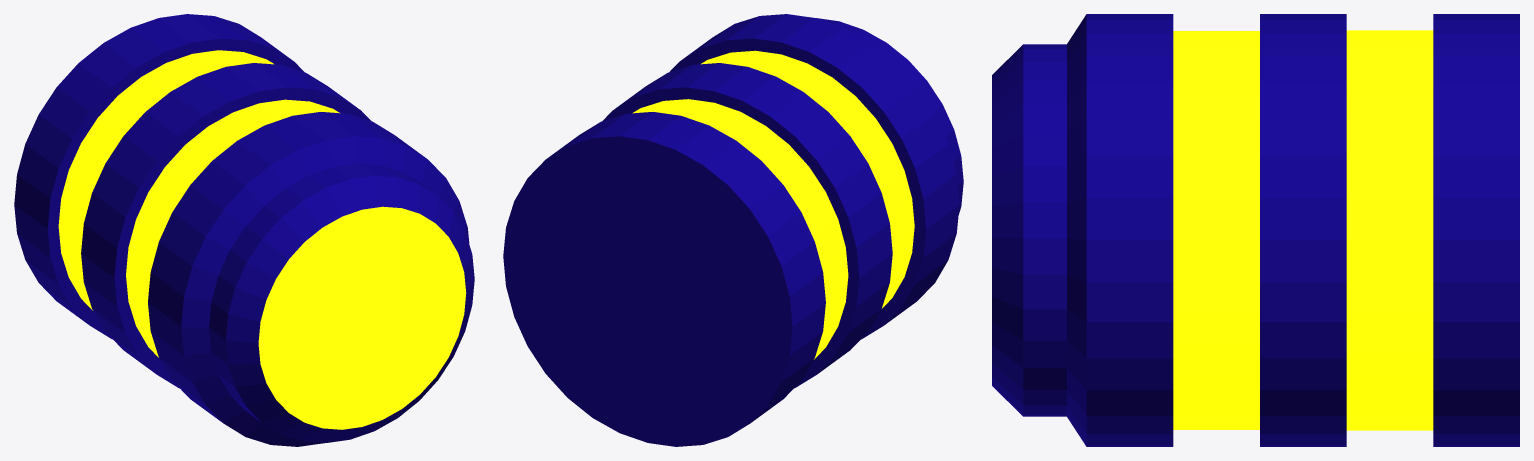
The model's file is SmartProjectile.fbx.
The picture shows the model from 3 angles, left to right: view 1: azimuth 30°, elevation 25°; view 2: azimuth 150°, elevation 25°; view 3: azimuth 270°, elevation 25°; orthographic projection. The views are drawn at different scales.
Visible parts, largest first — view 1: Shell, LaserTracer; view 2: Shell, LaserTracer; view 3: Shell, LaserTracer.
Part boxes in pixels (bbox=[...]): Shell: bbox=[14, 14, 474, 446]; LaserTracer: bbox=[58, 50, 466, 429]; Shell: bbox=[503, 14, 963, 446]; LaserTracer: bbox=[632, 50, 914, 359]; Shell: bbox=[992, 14, 1519, 446]; LaserTracer: bbox=[1173, 30, 1433, 430].
Size of the model in its own units: 20 by 20 by 24.36.
